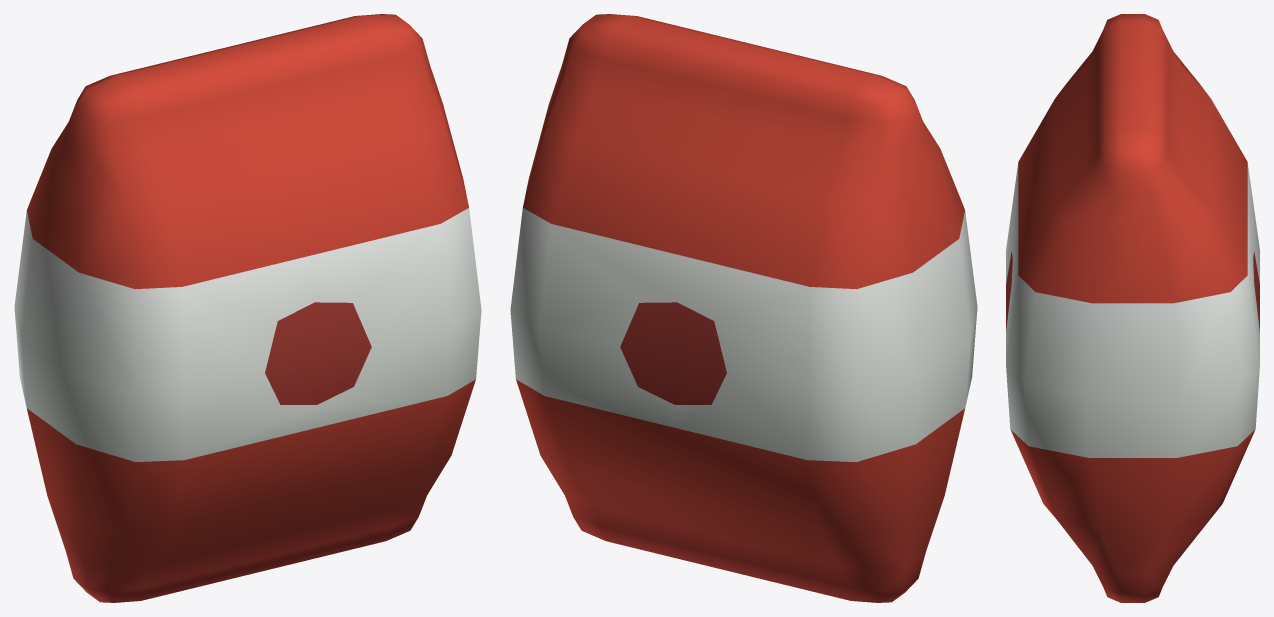
File: Snack_01.fbx
The picture shows the model from 3 angles, left to right: view 1: azimuth 30°, elevation 25°; view 2: azimuth 150°, elevation 25°; view 3: azimuth 270°, elevation 25°; orthographic projection. The views are drawn at different scales.
Parts seen in each view (by area): view 1: Snack_01; view 2: Snack_01; view 3: Snack_01.
Part boxes in pixels (box(x1,y1,x2,y2)): Snack_01: box(14, 14, 481, 602); Snack_01: box(510, 14, 977, 602); Snack_01: box(1006, 14, 1259, 602).
Bounding box in the file's own units: 0.3567 × 0.4381 × 0.2167.
